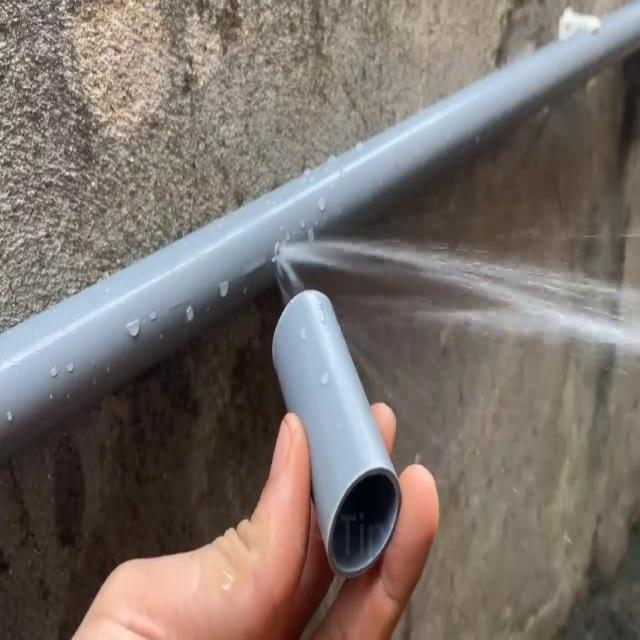leak: (273, 238, 640, 367)
